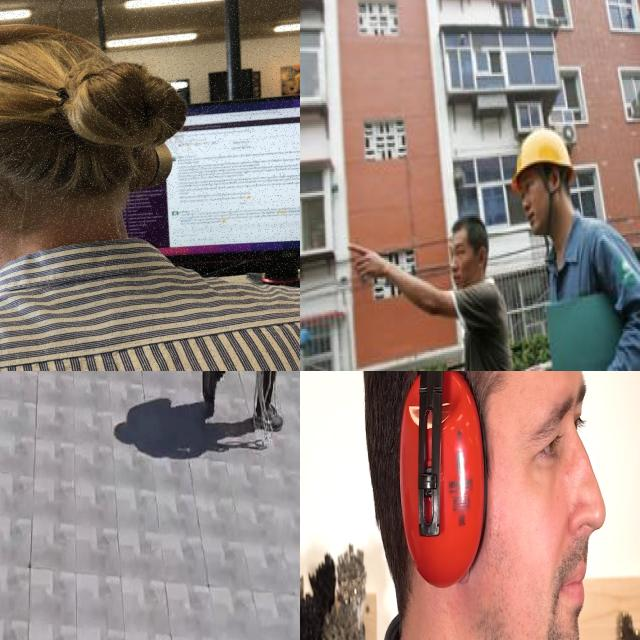Ear-protection: (361, 371, 599, 640), (0, 0, 217, 285)
No_Ear-Protection: (478, 247, 486, 268)
No_Glasses: (502, 371, 594, 498), (450, 243, 468, 258)
face_nomask: (450, 259, 481, 289)
hand_noglove: (350, 243, 386, 279)
head_helmet: (512, 127, 574, 190)
head_nohelmet: (451, 215, 488, 253)
